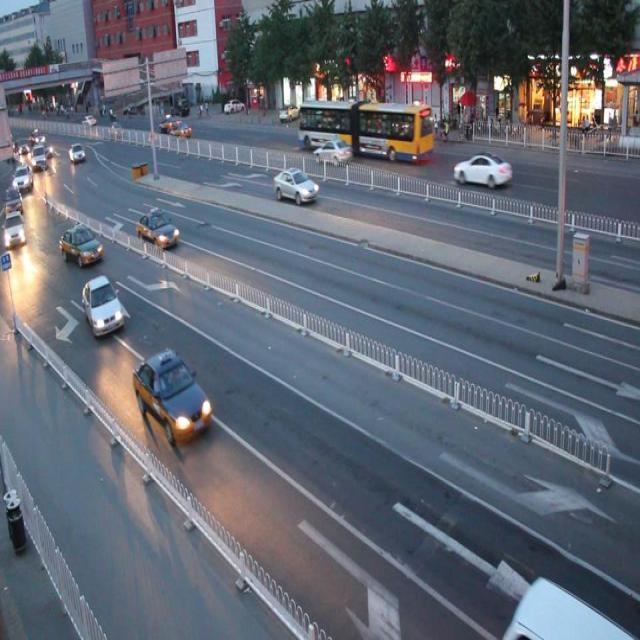car: (503, 571, 640, 640), (133, 348, 211, 444), (83, 274, 123, 338), (451, 149, 511, 190), (58, 222, 104, 267), (138, 206, 178, 249), (273, 167, 316, 203), (313, 138, 350, 164)
van: (298, 100, 433, 161)
